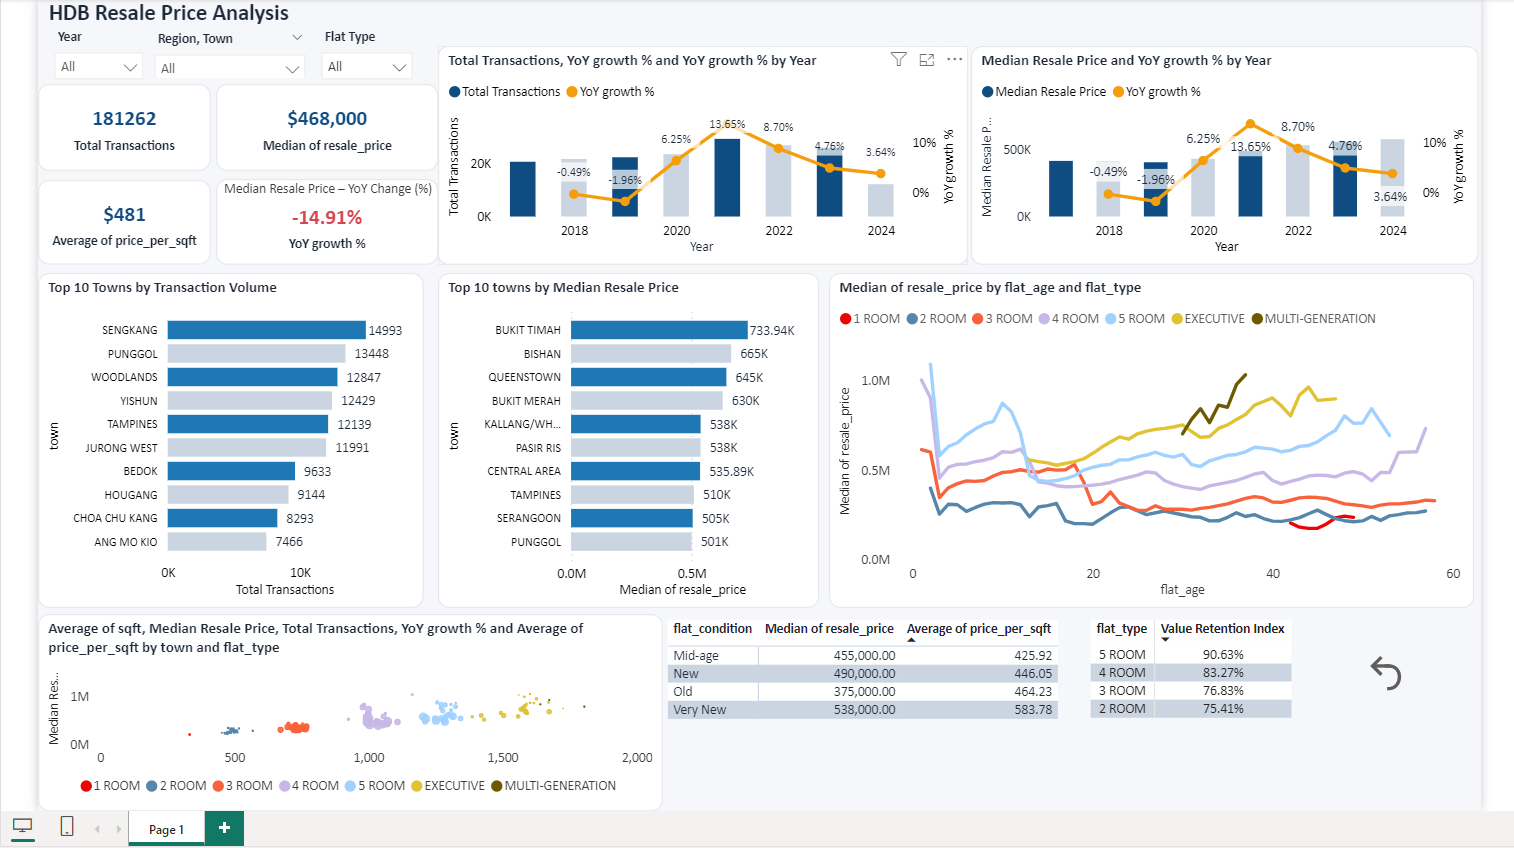

What the dashboard file says about the page in this screenshot:
{"tool":"powerbi","page":{"name":"Page 1","canvas":[1280,720],"ordinal":0},"visuals":[{"type":"slicer","fields":{"Values":["public hdb_resale.flat_type"]},"box":[241.2,21.3,101.1,58.5],"z":0},{"type":"lineChart","fields":{"Y":["Median(public hdb_resale.resale_price)"],"Series":["public hdb_resale.flat_type"],"Category":["public hdb_resale.flat_age"]},"box":[701.4,243,571.9,297],"z":1000},{"type":"card","fields":{"Values":["Median(public hdb_resale.resale_price)"]},"box":[157.8,75.4,197.2,76.6],"z":2000},{"type":"pivotTable","fields":{"Rows":["public hdb_resale.flat_condition"],"Values":["Median(public hdb_resale.resale_price)","Avg(public hdb_resale.price_per_sqft)"]},"box":[553.3,545.3,356.5,104.6],"z":3000},{"type":"card","fields":{"Values":["Avg(public hdb_resale.price_per_sqft)"]},"box":[0,160.5,153.4,75.4],"z":4000},{"type":"slicer","title":"Year","fields":{"Values":["public hdb_resale.Year"]},"box":[4.4,21.3,99.3,58.5],"z":5000},{"type":"card","fields":{"Values":["public hdb_resale.Total Transactions"]},"box":[0,75.4,153,76.6],"z":6000},{"type":"clusteredBarChart","title":"Top 10 Towns by Transaction Volume","fields":{"Y":["public hdb_resale.Total Transactions"],"Category":["public hdb_resale.town"]},"box":[0,242.8,342.1,297],"z":7000},{"type":"scatterChart","fields":{"Series":["public hdb_resale.flat_type"],"X":["Avg(public hdb_resale.sqft)"],"Size":["public hdb_resale.Total Transactions"],"Category":["public hdb_resale.town"],"Y":["public hdb_resale.Median Resale Price"]},"box":[0,545.1,553.8,175.3],"z":8000},{"type":"textbox","title":"HDB Resale Price Analysis","box":[4.4,0,251.8,31.9],"z":9000},{"type":"card","title":"Median Resale Price – YoY Change (%)","fields":{"Values":["public hdb_resale.YoY %"]},"box":[157.8,159.6,196.8,76.3],"z":10000},{"type":"clusteredBarChart","title":"Top 10 towns by Median Resale Price","fields":{"Category":["public hdb_resale.town"],"Y":["Median(public hdb_resale.resale_price)"]},"box":[354.7,243,337.8,297],"z":11000},{"type":"tableEx","fields":{"Values":["public hdb_resale.flat_type","public hdb_resale.Value Retention Index"]},"box":[927.5,545.3,203.1,104.6],"z":12000},{"type":"lineStackedColumnComboChart","fields":{"Y":["public hdb_resale.Total Transactions"],"Y2":["public hdb_resale.YoY growth %"],"Category":["public hdb_resale.Year"]},"box":[354.6,41.8,469.7,194.2],"z":13000},{"type":"lineStackedColumnComboChart","fields":{"Category":["public hdb_resale.Year"],"Y":["public hdb_resale.Median Resale Price"],"Y2":["public hdb_resale.YoY growth %"]},"box":[827.3,41.7,449.6,194.2],"z":14000},{"type":"slicer","fields":{"Values":["public hdb_resale.region","public hdb_resale.town"]},"box":[93.1,23.1,154.3,47],"z":15000},{"type":"actionButton","box":[1174.9,577.2,50.5,40.8],"z":16000}]}

Visuals, with their boxes on the page's 1280x720 design canvas (x1, y1, x2, y2). These are canvas units, not pixel positions in the 1514x848 screenshot, which may show the page scaled, cropped or inside an application window:
slicer - public hdb_resale.flat_type: [241, 21, 342, 80]
lineChart - Median(public hdb_resale.resale_price) x public hdb_resale.flat_type: [701, 243, 1273, 540]
card - Median(public hdb_resale.resale_price): [158, 75, 355, 152]
pivotTable - public hdb_resale.flat_condition x Median(public hdb_resale.resale_price): [553, 545, 910, 650]
card - Avg(public hdb_resale.price_per_sqft): [0, 160, 153, 236]
"Year" slicer: [4, 21, 104, 80]
card - public hdb_resale.Total Transactions: [0, 75, 153, 152]
"Top 10 Towns by Transaction Volume" clusteredBarChart: [0, 243, 342, 540]
scatterChart - public hdb_resale.flat_type x Avg(public hdb_resale.sqft): [0, 545, 554, 720]
"HDB Resale Price Analysis" textbox: [4, 0, 256, 32]
"Median Resale Price – YoY Change (%)" card: [158, 160, 355, 236]
"Top 10 towns by Median Resale Price" clusteredBarChart: [355, 243, 692, 540]
tableEx - public hdb_resale.flat_type x public hdb_resale.Value Retention Index: [928, 545, 1131, 650]
lineStackedColumnComboChart - public hdb_resale.Total Transactions x public hdb_resale.YoY growth %: [355, 42, 824, 236]
lineStackedColumnComboChart - public hdb_resale.Year x public hdb_resale.Median Resale Price: [827, 42, 1277, 236]
slicer - public hdb_resale.region x public hdb_resale.town: [93, 23, 247, 70]
actionButton: [1175, 577, 1225, 618]
